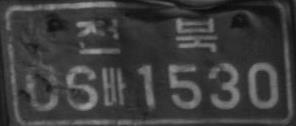0: (23, 62, 59, 113), (245, 60, 280, 110)
1: (130, 63, 160, 109)
3: (207, 61, 241, 111)
5: (167, 62, 202, 111)
6: (64, 63, 99, 112)
바: (100, 66, 127, 106)
전북_D: (75, 16, 219, 56)
